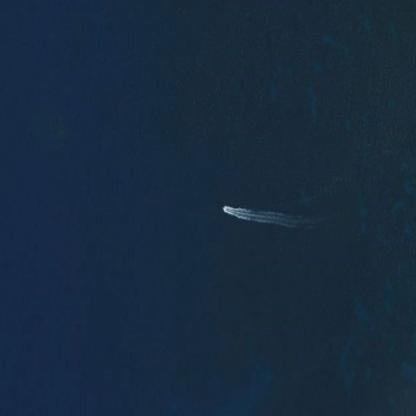ship: (217, 199, 245, 223)
